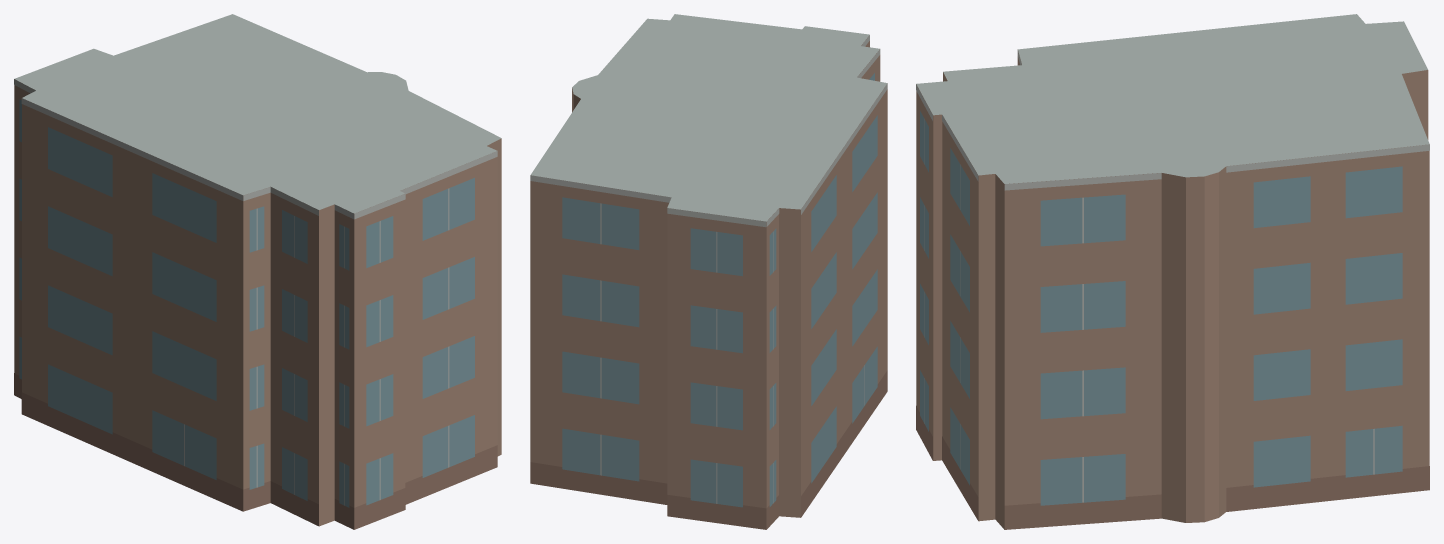
File: survey-upis-32498343.glb
The picture shows the model from 3 angles, left to right: view 1: azimuth 30°, elevation 25°; view 2: azimuth 150°, elevation 25°; view 3: azimuth 270°, elevation 25°; orthographic projection. The views are drawn at different scales.
Visible parts, largest first — view 1: survey-upis-32498343.tmp; view 2: survey-upis-32498343.tmp; view 3: survey-upis-32498343.tmp.
Part boxes in pixels (x1,y1,x2,y2): survey-upis-32498343.tmp: (14,14,501,529); survey-upis-32498343.tmp: (530,14,887,529); survey-upis-32498343.tmp: (916,14,1429,529).
Size of the model in its own units: 13.83 by 13.1 by 17.65.
